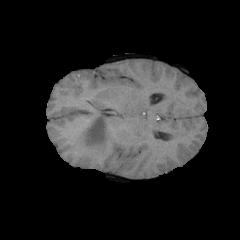glioma: (70, 105, 123, 154)
